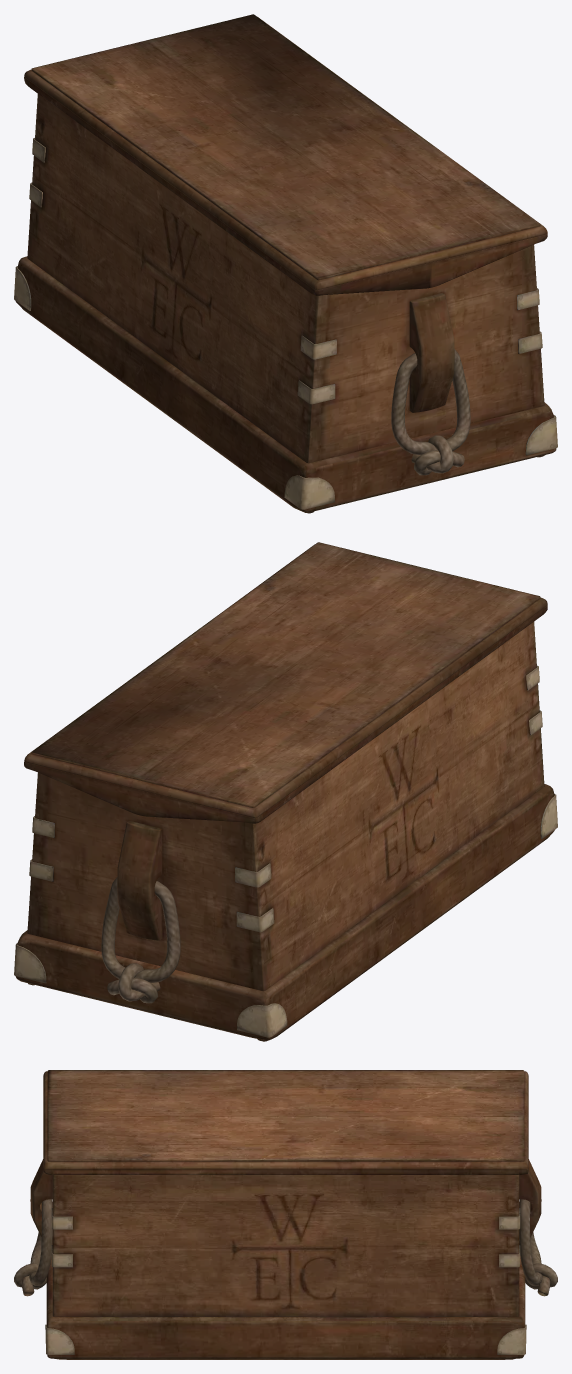
The model's file is wooden_crate_02.glb.
3 renders of one model, top to bottom at view 1: azimuth 30°, elevation 25°; view 2: azimuth 150°, elevation 25°; view 3: azimuth 270°, elevation 25°, orthographic. The views are drawn at different scales.
Parts seen in each view (by area): view 1: wooden_crate_02_crate; view 2: wooden_crate_02_crate; view 3: wooden_crate_02_crate.
Boxes of the visible parts, x1=… form: wooden_crate_02_crate: x1=14, y1=14, x2=557, y2=513; wooden_crate_02_crate: x1=14, y1=542, x2=557, y2=1041; wooden_crate_02_crate: x1=14, y1=1070, x2=557, y2=1359.
Bounding box in the file's own units: 0.5291 × 0.464 × 1.17.
Materials: 1 (1 with a texture image).
